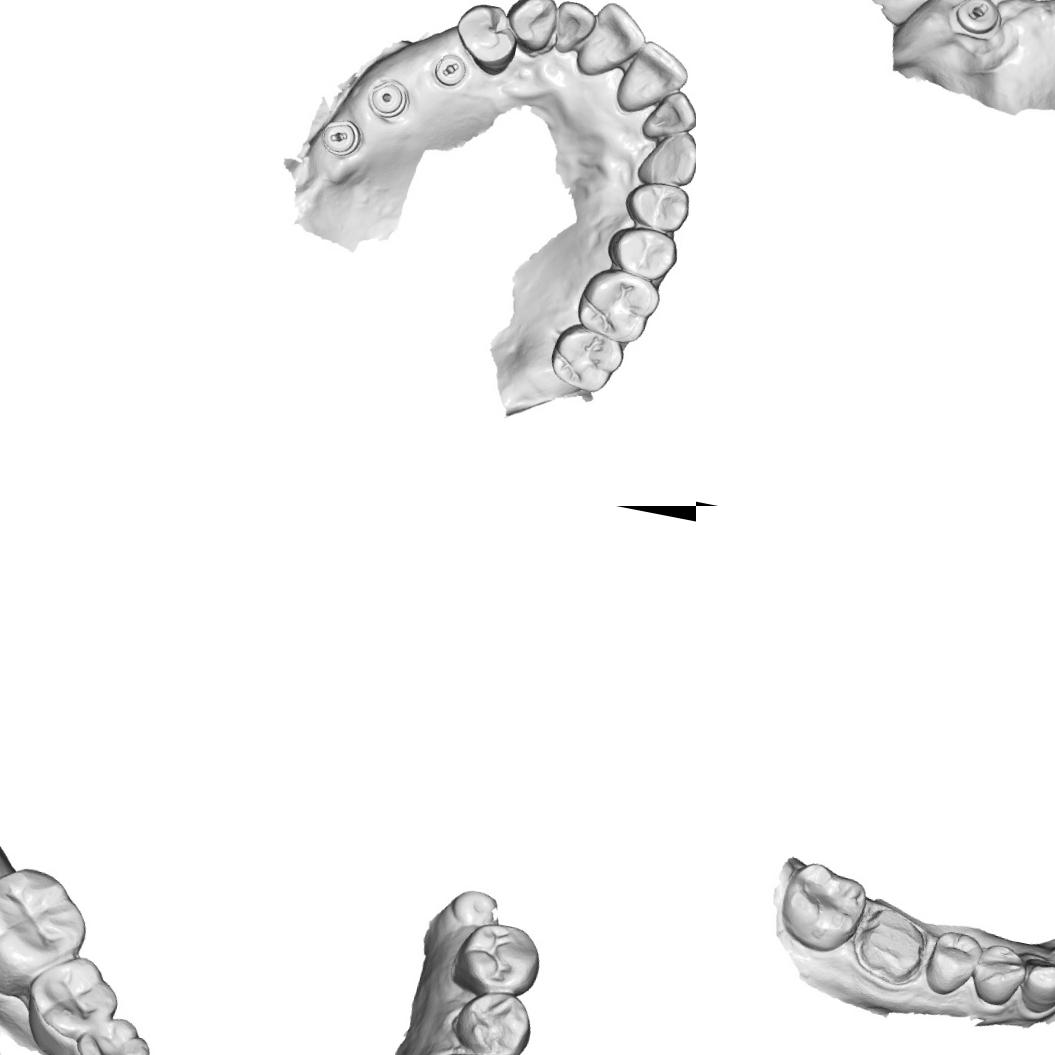canine: (629, 123, 696, 194), (500, 0, 561, 55), (1014, 953, 1055, 1019)
crown: (846, 900, 934, 988)
implant: (360, 74, 414, 124), (447, 884, 501, 930)
implant_minus: (947, 0, 1007, 43), (316, 113, 366, 160), (429, 50, 470, 90)
incisor: (570, 0, 651, 87), (625, 36, 695, 100), (636, 84, 696, 147), (547, 0, 598, 59)
molar: (0, 854, 96, 998), (19, 947, 125, 1055), (772, 856, 873, 960), (572, 264, 664, 348), (544, 321, 628, 398)
premolar: (452, 914, 546, 1000), (446, 0, 527, 79), (449, 984, 535, 1055), (602, 221, 683, 284), (920, 926, 986, 1002), (967, 940, 1031, 1011), (63, 1008, 158, 1055), (620, 175, 693, 236)
